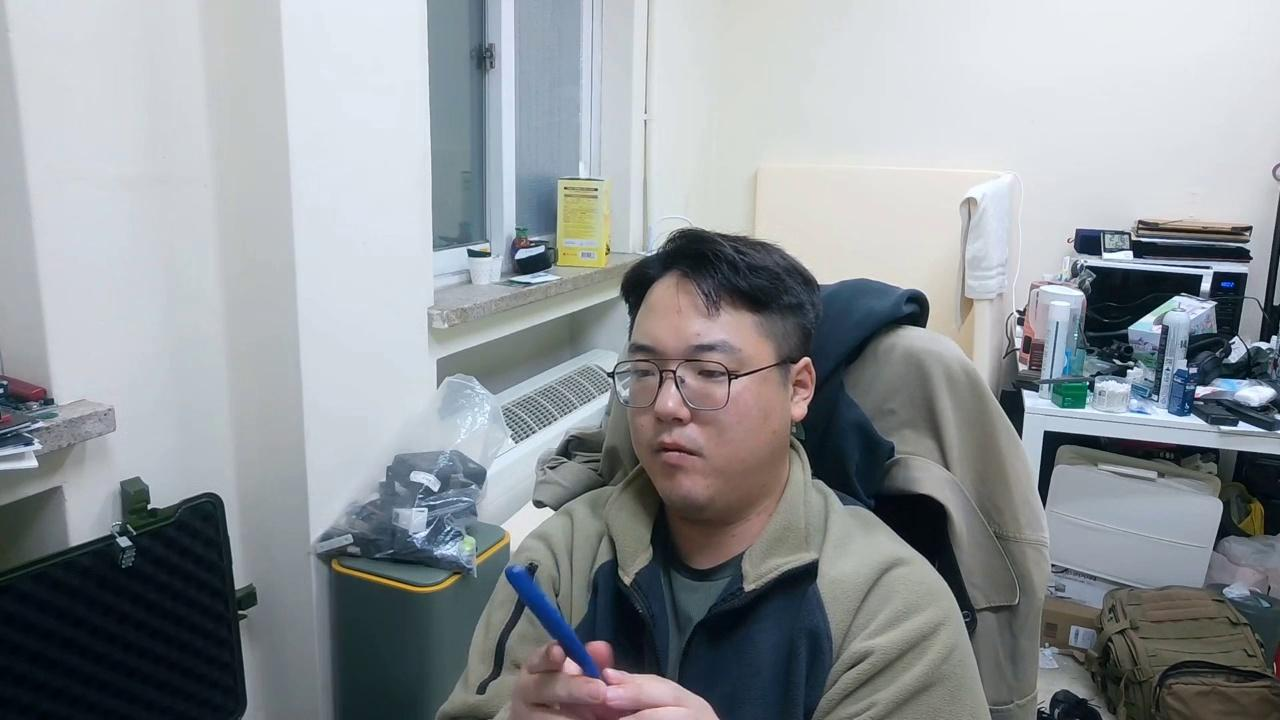blue_pliers: (502, 561, 607, 684)
